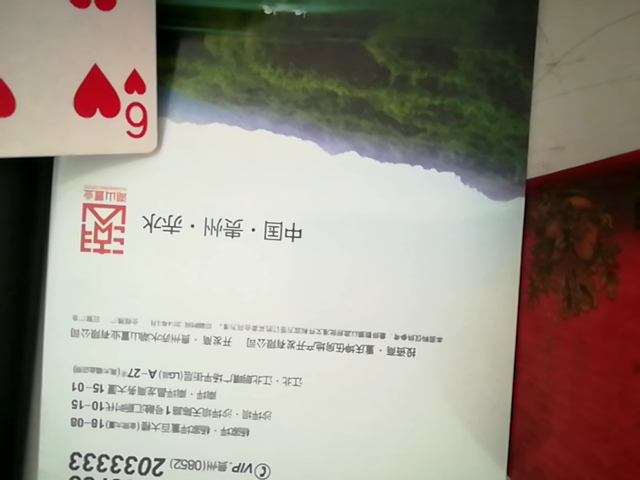hx 6: (8, 0, 176, 179)
